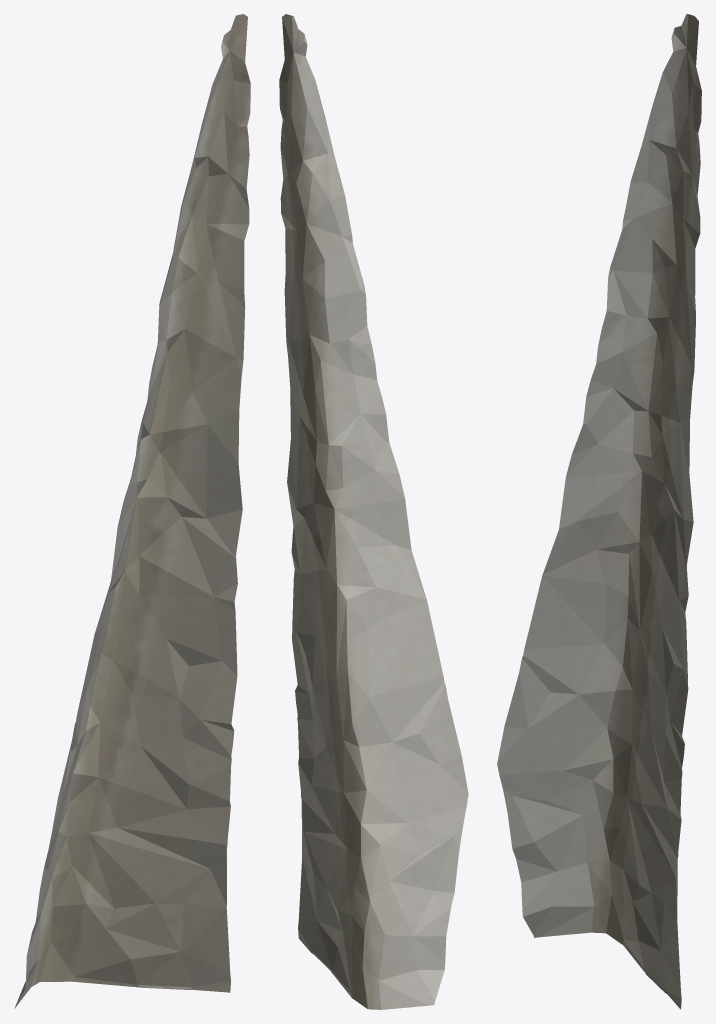
3 renders of one model, left to right at view 1: azimuth 30°, elevation 25°; view 2: azimuth 150°, elevation 25°; view 3: azimuth 330°, elevation 25°, orthographic. The views are drawn at different scales.
Bounding box in the file's own units: 0.18 × 0.8373 × 0.0911.
Materials: 1 (1 with a texture image).
